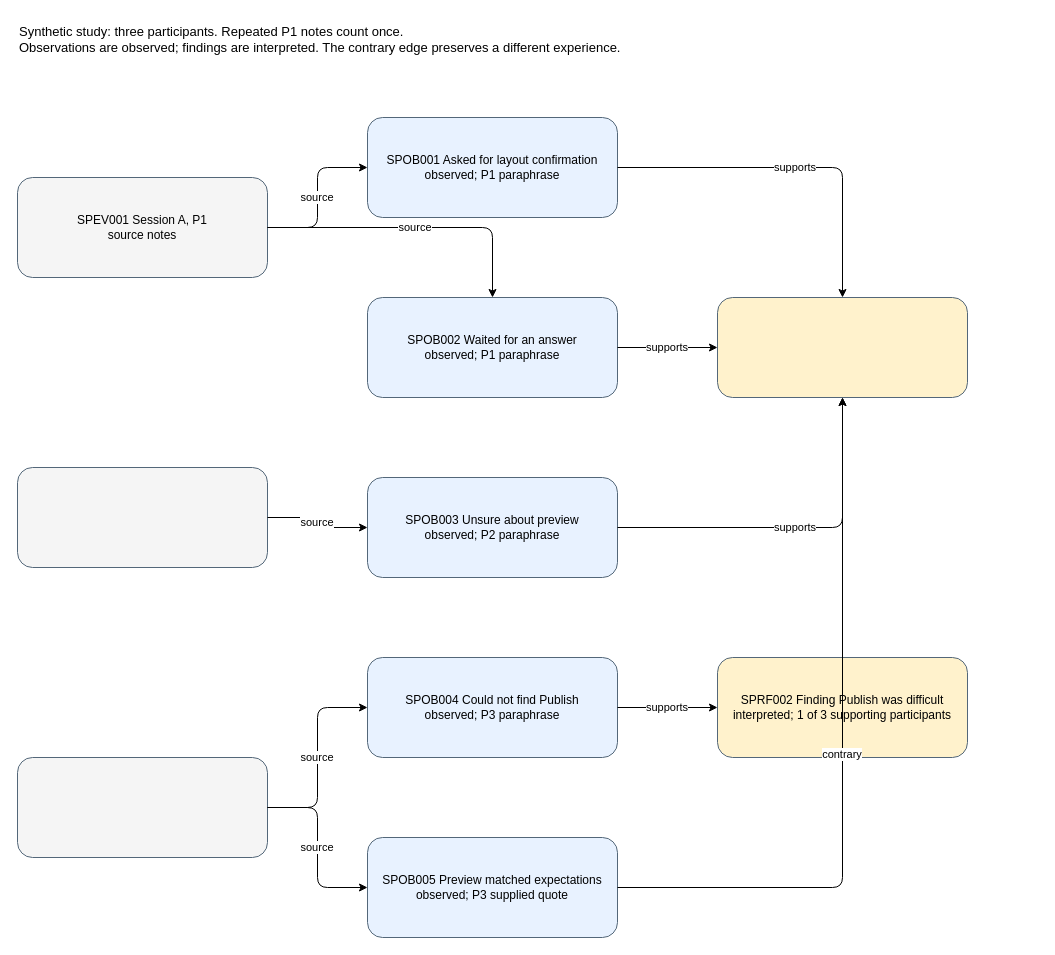
Image size: 1055x955. Some labels were removed from this diagram. Here are the shapes that lost their labels. From the top down, the box of each, then its label:
(716, 296, 968, 398): SPRF001 Preview confidence varies interpreted; 2 of 3 supporting participants
(16, 466, 268, 568): SPEV002 Session B, P2 source notes
(16, 756, 268, 858): SPEV003 Session C, P3 source notes and quote
